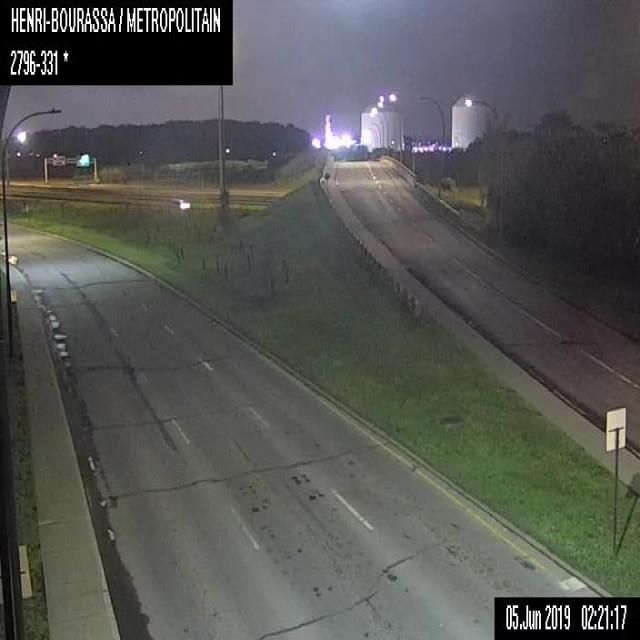vehicle: (170, 197, 190, 209)
